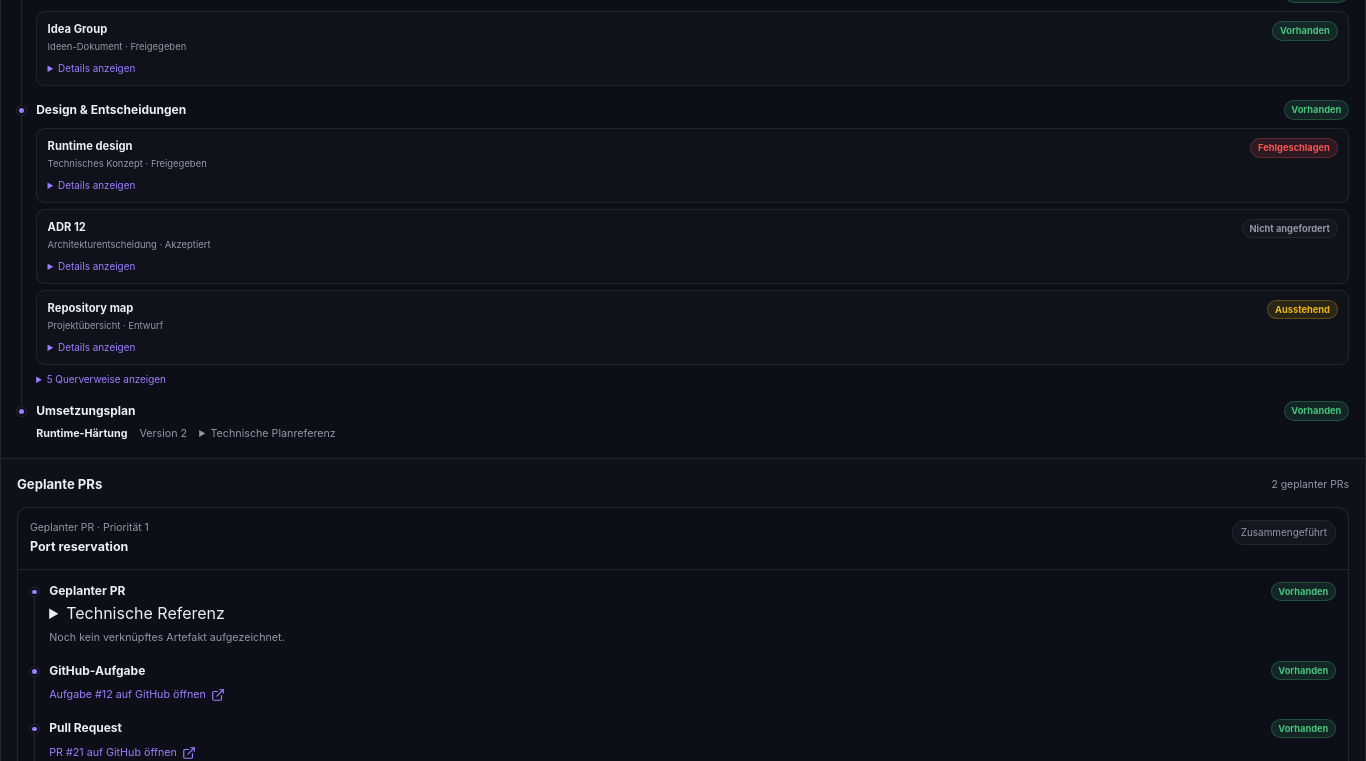
Test: secondary React pages › shows a read-only knowledge chain with separate PR branches and truthful coverage
This screenshot has width=1366, height=761.
(page scrolled)
expect the heading "Port reservation" is shown: met, box [30,539,128,554]
expect the text "Ideen-Dokument · Freigegeben" is shown: met, box [48,40,186,54]
Click the heading "5 Querverweise anzeigen" at [106, 379], box [47,373,166,385]
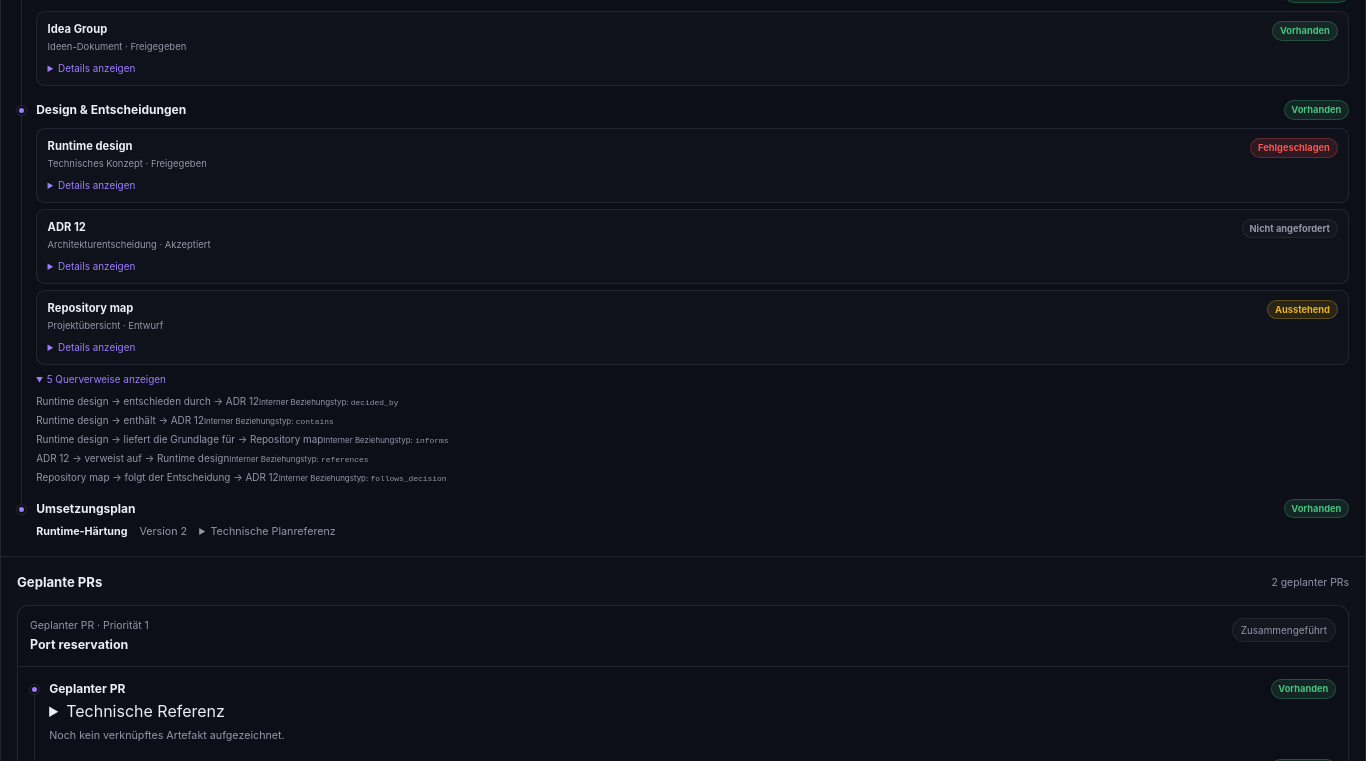
expect the list item "→ enthält →" is shown: met, box [36,414,334,426]
expect the list item "→ liefert die Grundlage für →" is shown: met, box [36,433,448,445]
expect the list item "→ verweist auf →" is shown: met, box [36,452,369,464]
